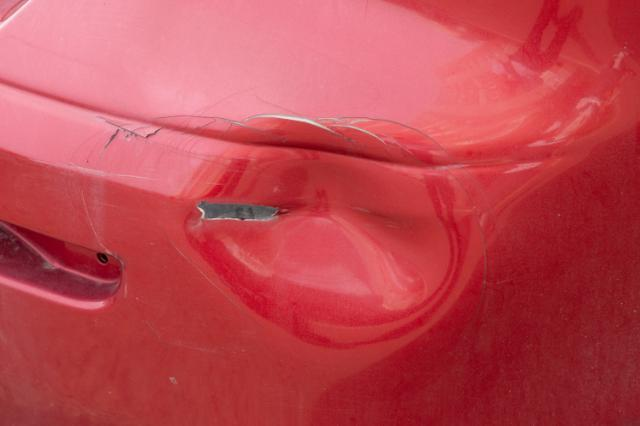Bumper: (19, 73, 621, 400)
